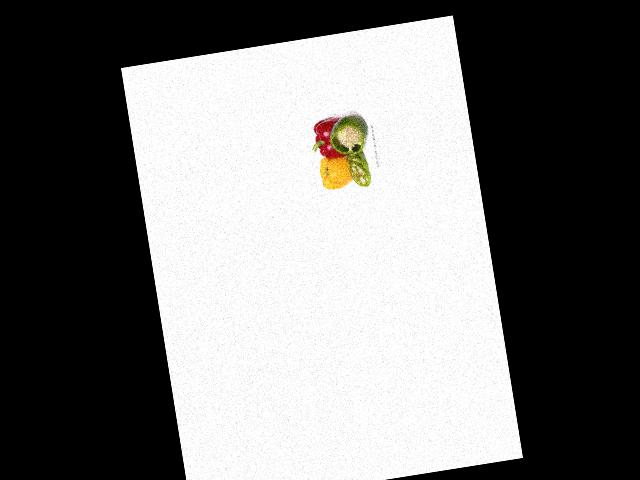bell_pepper: (325, 109, 368, 158)
